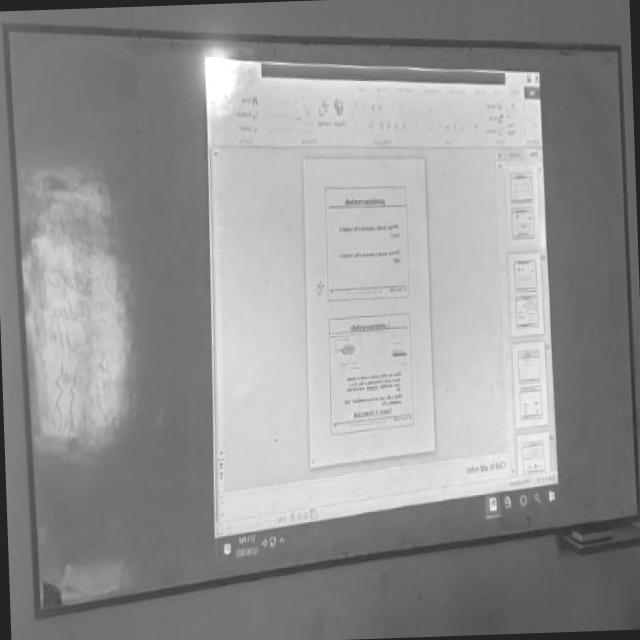Slide: (202, 50, 561, 569)
White-board: (6, 23, 635, 617)
